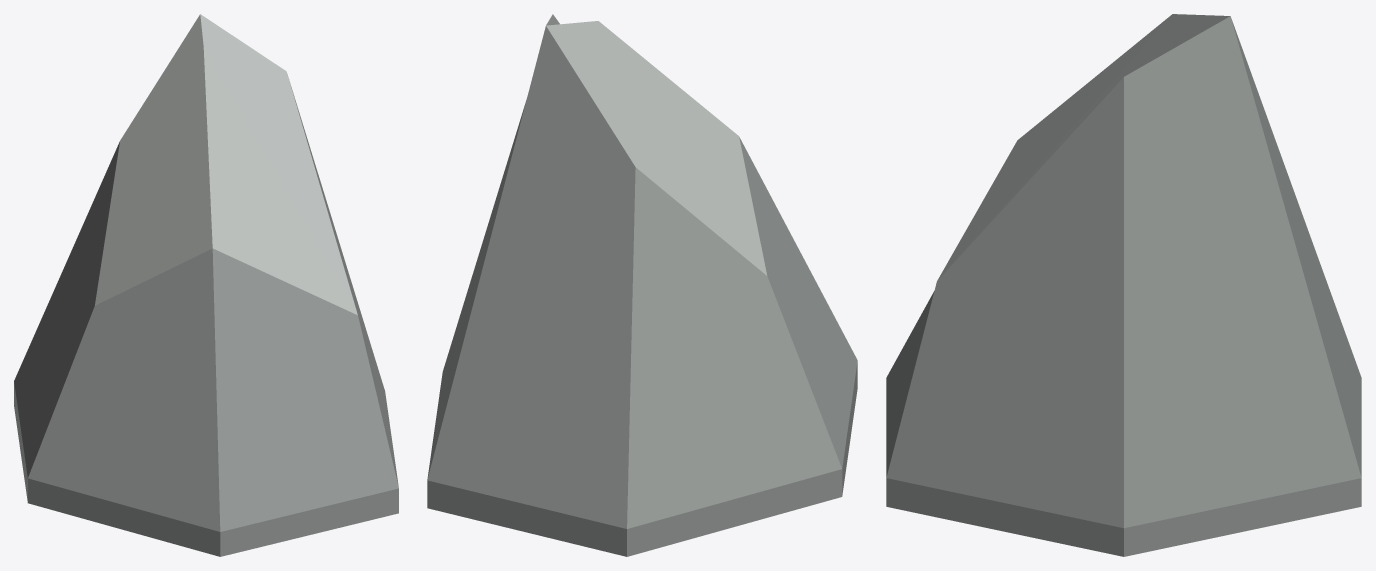
File: Mountain5.fbx
The picture shows the model from 3 angles, left to right: view 1: azimuth 30°, elevation 25°; view 2: azimuth 150°, elevation 25°; view 3: azimuth 270°, elevation 25°; orthographic projection. The views are drawn at different scales.
Parts seen in each view (by area): view 1: Mountain5; view 2: Mountain5; view 3: Mountain5.
Part boxes in pixels (<box>): Mountain5: <box>14,14,398,556</box>; Mountain5: <box>427,14,857,556</box>; Mountain5: <box>886,14,1361,556</box>.
Size of the model in its own units: 1500 by 1613 by 1500.
